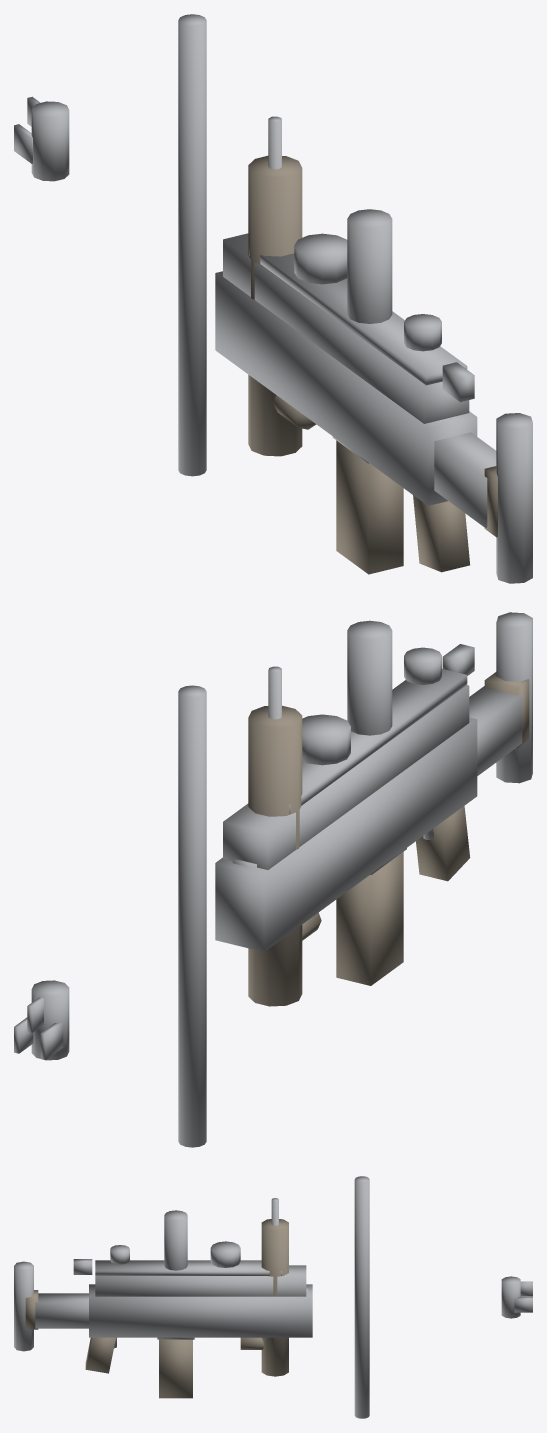
The picture shows the model from 3 angles, top to bottom: view 1: azimuth 30°, elevation 25°; view 2: azimuth 150°, elevation 25°; view 3: azimuth 270°, elevation 25°; orthographic projection. The views are drawn at different scales.
Parts seen in each view (by area): view 1: metal, poly; view 2: metal, poly; view 3: metal, poly.
Boxes of the visible parts, x1,y1,x2,y2 form: metal: (14,14,532,583); poly: (248,155,497,574); metal: (14,612,532,1147); poly: (248,672,529,1006); metal: (14,1176,532,1418); poly: (25,1219,288,1398).
Bounding box in the file's own units: 0.048 × 0.42 × 0.836.
